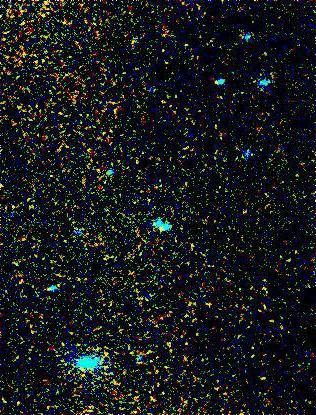star: (203, 69, 233, 99)
